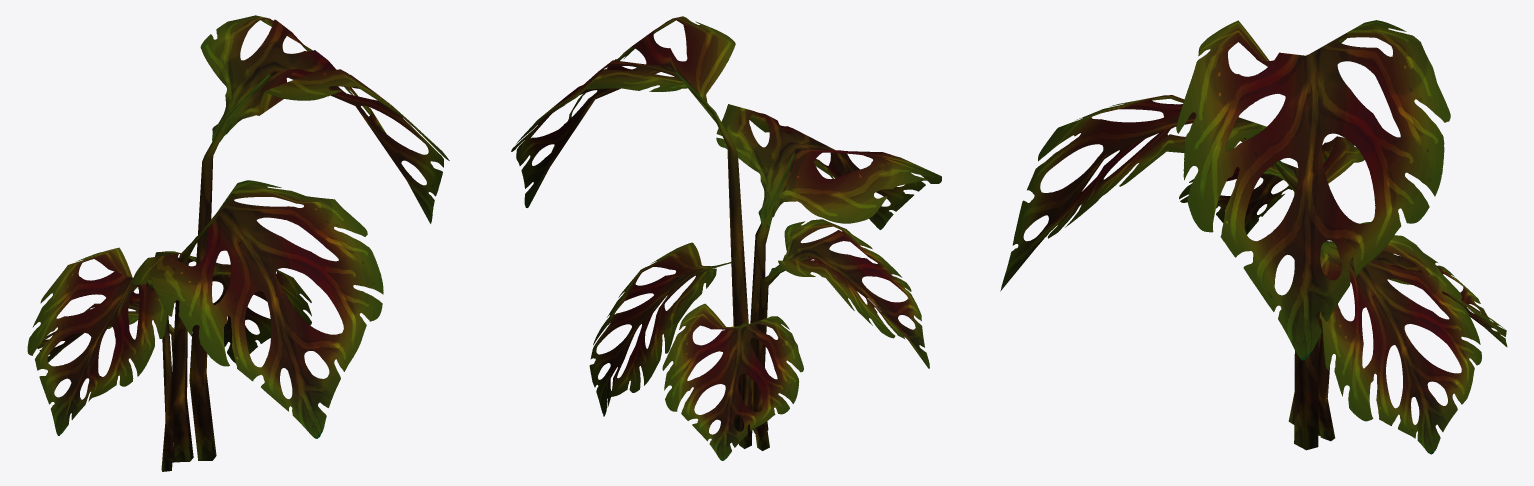
File: Foliage02(SimpleMesh).fbx
3 views of the same model, side by side, from view 1: azimuth 30°, elevation 25°; view 2: azimuth 150°, elevation 25°; view 3: azimuth 270°, elevation 25° (orthographic). The views are drawn at different scales.
Visible parts, largest first — view 1: PlantFoliage02; view 2: PlantFoliage02; view 3: PlantFoliage02.
Boxes of the visible parts, box(x1,y1,x2,y2) form: PlantFoliage02: box(27, 15, 449, 471); PlantFoliage02: box(511, 16, 941, 460); PlantFoliage02: box(1000, 20, 1507, 454).
Size of the model in its own units: 112 by 103 by 107.
